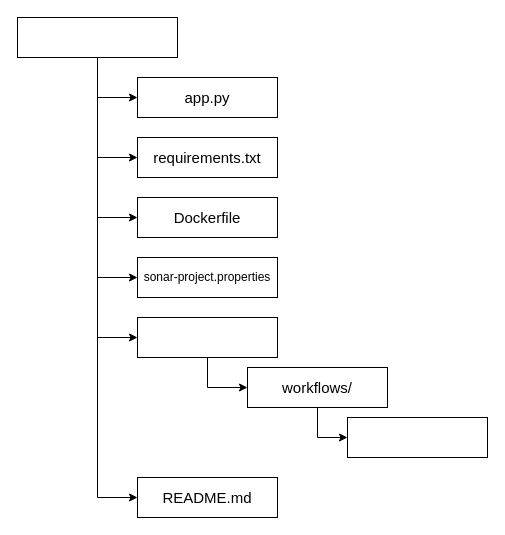
This 505x535 diagram has some shape labels left out. Here are the shapes that lost their labels. From the top down, the box of each, then its label:
(16, 16, 178, 58): Vulnerable-web-app/
(136, 316, 278, 358): .github/
(346, 416, 488, 458): security.yml
